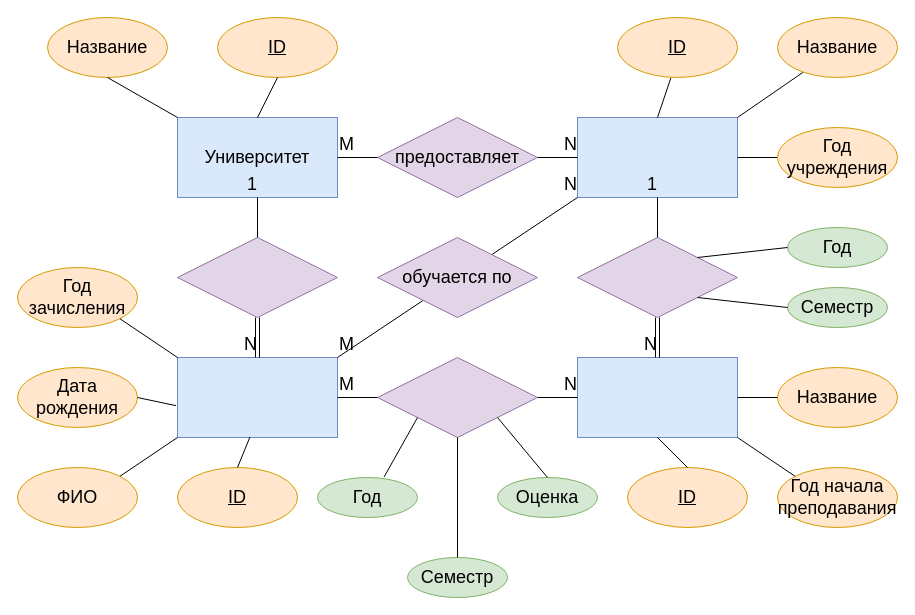
Some shapes in this 915 by 615 pixel diagram are drawn without their labels. The shapes that lost their labels are listed below. From the top down, each one's centre as x and y in pixels, then its label:
At (657,157): "Специальность".
At (257,277): "принадлежит".
At (657,277): "содержит".
At (257,397): "Студент".
At (457,397): "изучает".
At (657,397): "Предмет".
